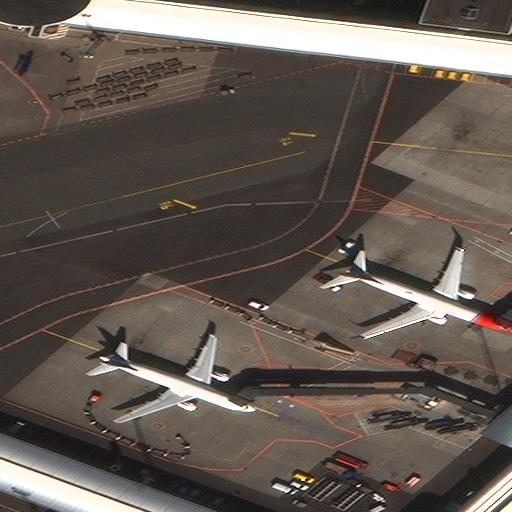Medium Civil Transport: (320, 248, 512, 341), (96, 336, 258, 424)
